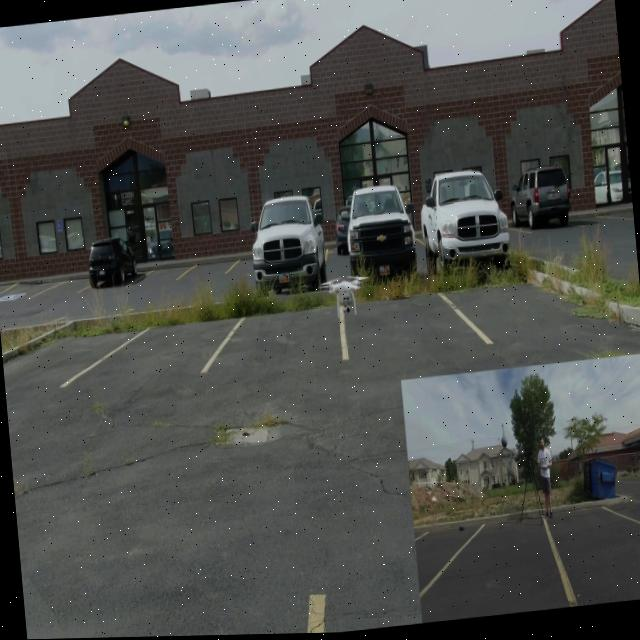drone: (322, 271, 368, 318)
